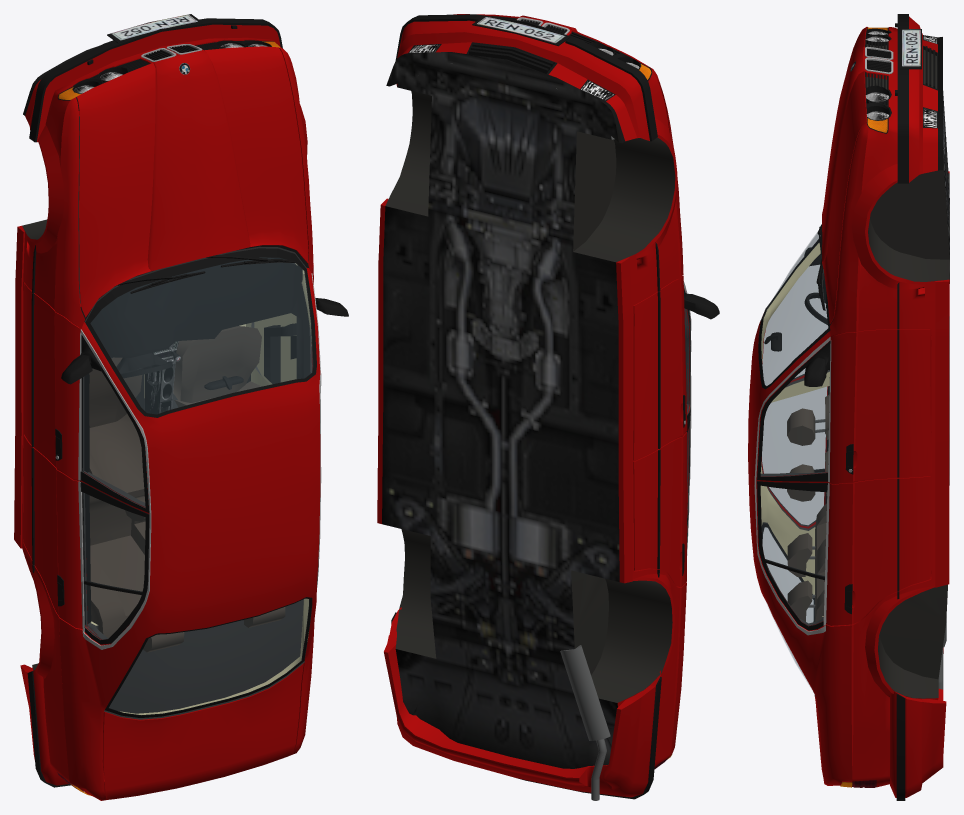
Rendered from BMWE34.obj.
3 views of the same model, side by side, from view 1: azimuth 30°, elevation 25°; view 2: azimuth 150°, elevation 25°; view 3: azimuth 270°, elevation 25° (orthographic). The views are drawn at different scales.
Parts seen in each view (by area): view 1: BMW_E34_Object_7_Object_0.001; view 2: BMW_E34_Object_7_Object_0.001; view 3: BMW_E34_Object_7_Object_0.001.
Boxes of the visible parts, left/top/right/bottom form: BMW_E34_Object_7_Object_0.001: left=14, top=14, right=348, bottom=800; BMW_E34_Object_7_Object_0.001: left=377, top=14, right=719, bottom=800; BMW_E34_Object_7_Object_0.001: left=748, top=14, right=949, bottom=800.
Size of the model in its own units: 1.88 by 4.72 by 1.21.
19 materials, 19 textured.
